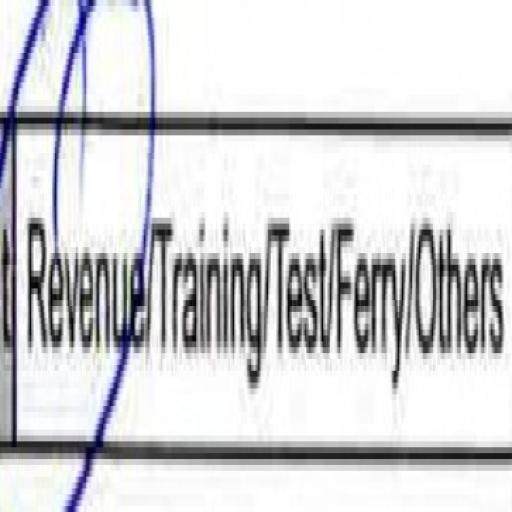check: (4, 0, 155, 512)
